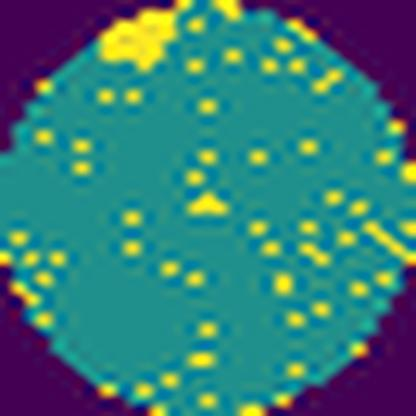Edge-Loc: (97, 0, 201, 76)
